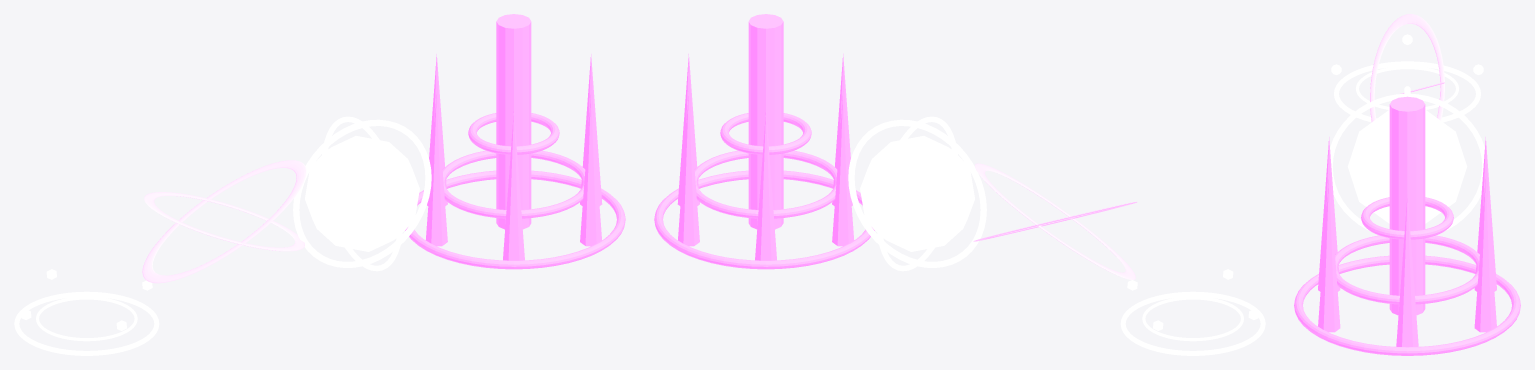
The model's file is nayla_skills_vfx.glb.
The picture shows the model from 3 angles, left to right: view 1: azimuth 30°, elevation 25°; view 2: azimuth 150°, elevation 25°; view 3: azimuth 270°, elevation 25°; orthographic projection.
Visible parts, largest first — view 1: VFX_Ultimate, VFX_Skill_2, VFX_Skill_1, VFX_Passive; view 2: VFX_Ultimate, VFX_Skill_2, VFX_Passive, VFX_Skill_1; view 3: VFX_Ultimate, VFX_Skill_2, VFX_Passive, VFX_Skill_1.
Boxes of the visible parts, left/top/right/bottom form: VFX_Ultimate: left=405, top=14, right=625, bottom=269; VFX_Skill_2: left=293, top=116, right=431, bottom=271; VFX_Skill_1: left=142, top=160, right=306, bottom=283; VFX_Passive: left=14, top=269, right=159, bottom=355; VFX_Ultimate: left=654, top=14, right=874, bottom=269; VFX_Skill_2: left=848, top=116, right=986, bottom=271; VFX_Passive: left=1120, top=269, right=1265, bottom=355; VFX_Skill_1: left=973, top=163, right=1136, bottom=279; VFX_Ultimate: left=1294, top=96, right=1520, bottom=355; VFX_Skill_2: left=1330, top=86, right=1484, bottom=230; VFX_Passive: left=1331, top=34, right=1483, bottom=122; VFX_Skill_1: left=1370, top=14, right=1444, bottom=121.
Size of the model in its own units: 8.55 by 2.88 by 2.81.
